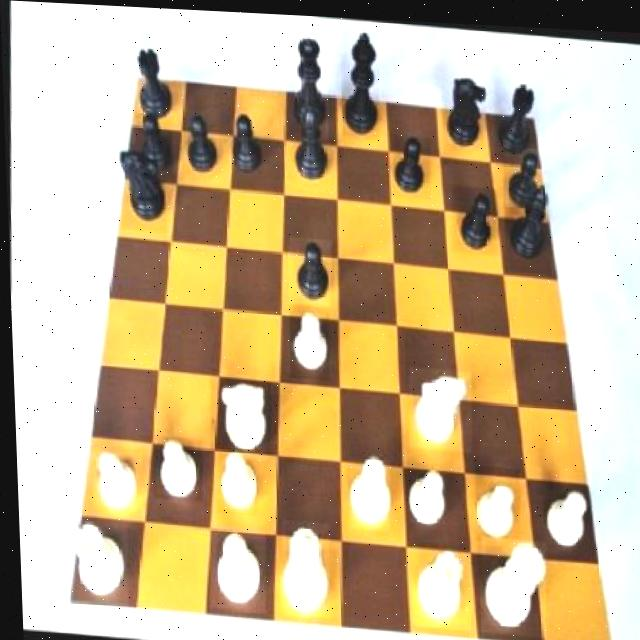bishop: (500, 174, 553, 270), (291, 95, 328, 189)
black-bishop: (337, 26, 380, 135)
black-king: (116, 142, 168, 231), (440, 64, 487, 146)
black-knight: (448, 181, 497, 251), (285, 235, 331, 304), (181, 107, 220, 183), (386, 131, 431, 196), (226, 111, 268, 175), (133, 111, 174, 176), (503, 140, 544, 203)
black-pawn: (291, 24, 331, 136)
black-queen: (493, 73, 541, 157), (134, 44, 175, 121)
black-rook: (204, 526, 265, 611), (344, 452, 389, 528)
white-bishop: (475, 531, 545, 631)
white-king: (404, 362, 471, 448), (205, 374, 270, 452)
white-knight: (533, 475, 589, 547), (470, 460, 520, 539), (401, 457, 450, 531), (148, 435, 201, 501), (85, 449, 141, 511), (285, 302, 329, 377), (211, 449, 256, 514)
white-pawn: (275, 517, 329, 616)
white-queen: (61, 516, 126, 604), (405, 540, 470, 626)
